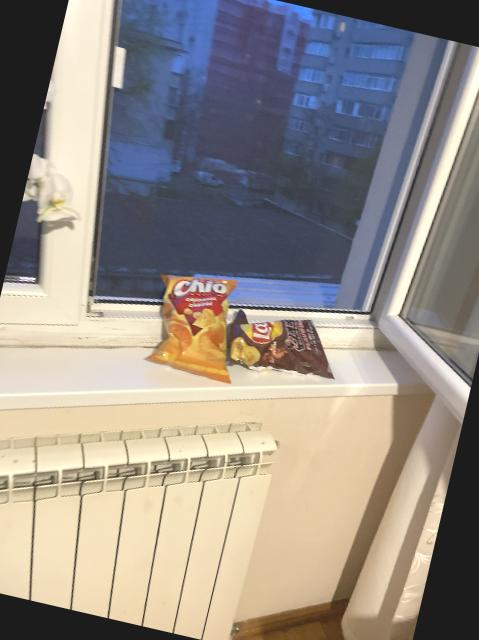Chio Cascaval 125g: (139, 264, 250, 382)
Lays Beef Grilled Ribs 125g: (221, 302, 342, 388)
